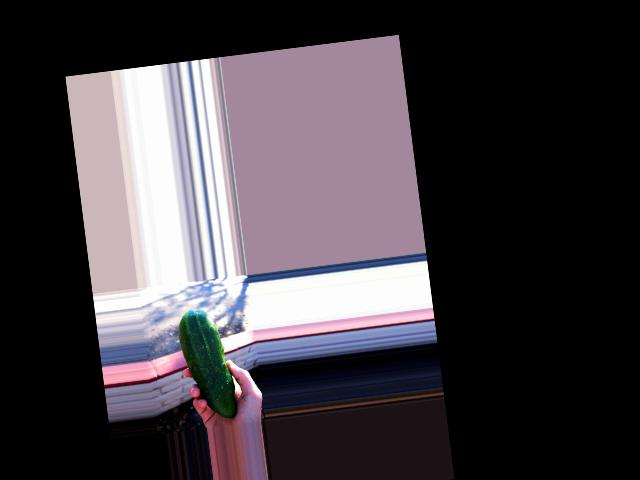cucumber: (175, 306, 237, 422)
